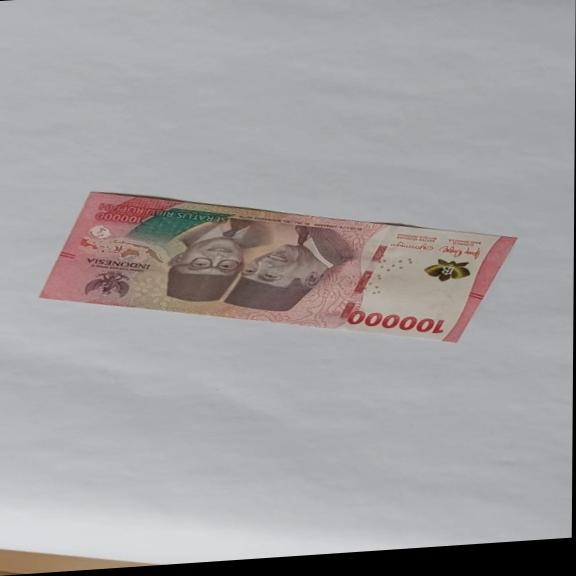Kertas: (36, 161, 518, 370)
